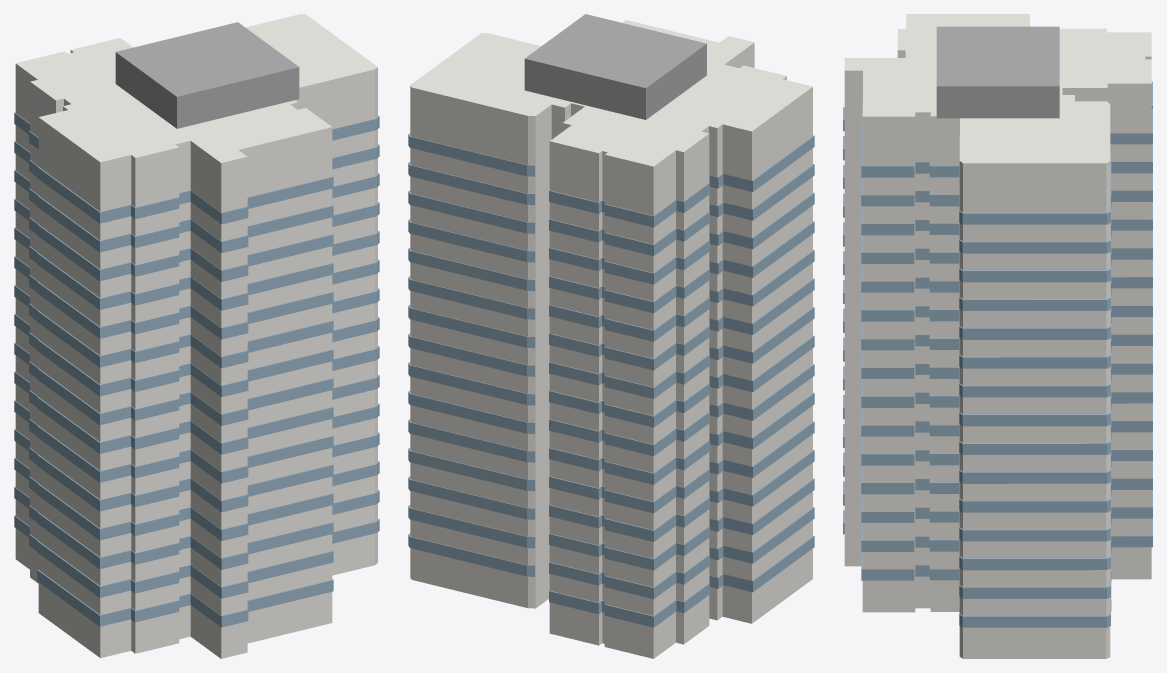
The model's file is loerrach-rathaus.glb.
3 views of the same model, side by side, from view 1: azimuth 30°, elevation 25°; view 2: azimuth 150°, elevation 25°; view 3: azimuth 270°, elevation 25° (orthographic).
Parts seen in each view (by area): view 1: building; view 2: building; view 3: building.
Part boxes in pixels (left/top/right/bottom): building: left=14, top=14, right=379, bottom=658; building: left=408, top=14, right=814, bottom=658; building: left=843, top=14, right=1152, bottom=658.
Size of the model in its own units: 40.37 by 66 by 35.13.
